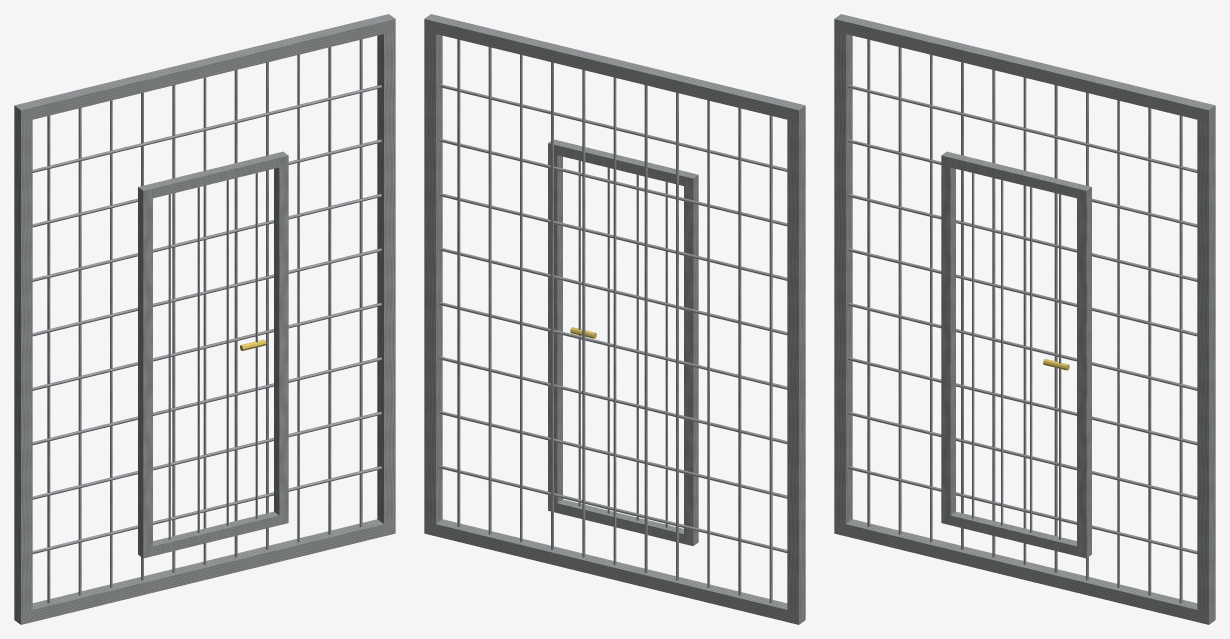
The model's file is birds-and-reptiles-hd-aviary-flight-panel-2f12992f__28126.glb.
The picture shows the model from 3 angles, left to right: view 1: azimuth 30°, elevation 25°; view 2: azimuth 150°, elevation 25°; view 3: azimuth 330°, elevation 25°; orthographic projection.
Parts seen in each view (by area): view 1: aviary-flight-panel, door-aviary/ash; view 2: aviary-flight-panel, door-aviary/ash; view 3: aviary-flight-panel, door-aviary/ash.
Boxes of the visible parts, x1=… form: aviary-flight-panel: x1=14, y1=14, x2=395, y2=624; door-aviary/ash: x1=138, y1=151, x2=288, y2=558; aviary-flight-panel: x1=424, y1=14, x2=805, y2=624; door-aviary/ash: x1=548, y1=139, x2=698, y2=545; aviary-flight-panel: x1=834, y1=14, x2=1215, y2=624; door-aviary/ash: x1=941, y1=151, x2=1091, y2=558.
Bounding box in the file's own units: 1.6 × 2.1 × 0.107.
2 materials, 1 textured.
